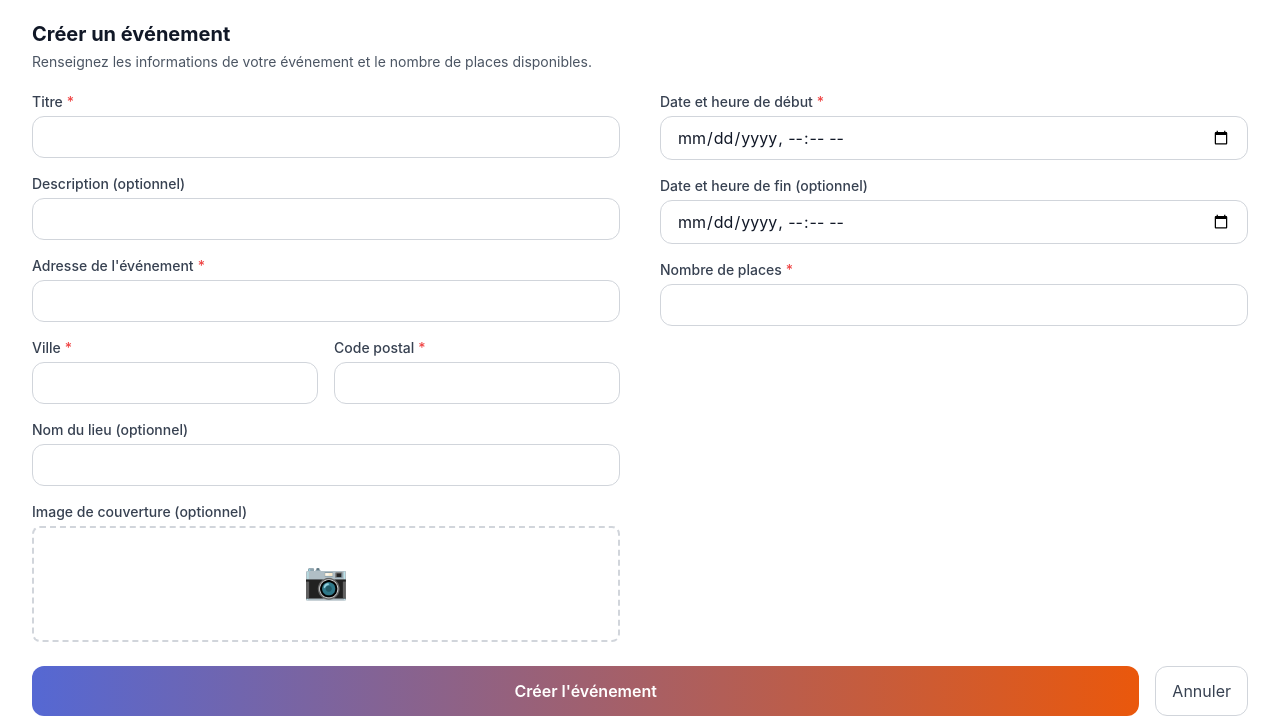
Test case: CreateEventPage - client-side validation › requires at least 1 place for a community event
The image size is (1280, 720).
Type "Concert de jazz" into the field labelled "Titre*" at (326, 137), box [32,116,620,158]
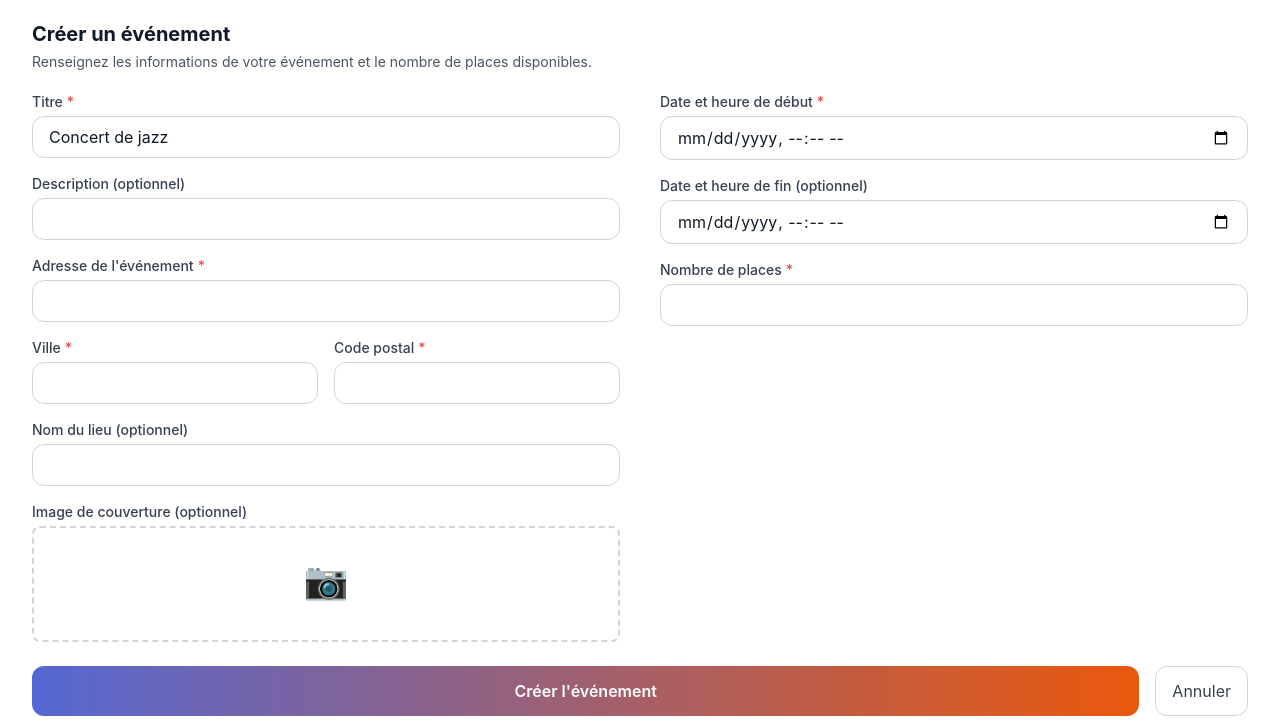
Type "10 Rue de Rivoli" into the field labelled "Adresse de l'événement*" at (326, 301), box [32,280,620,322]
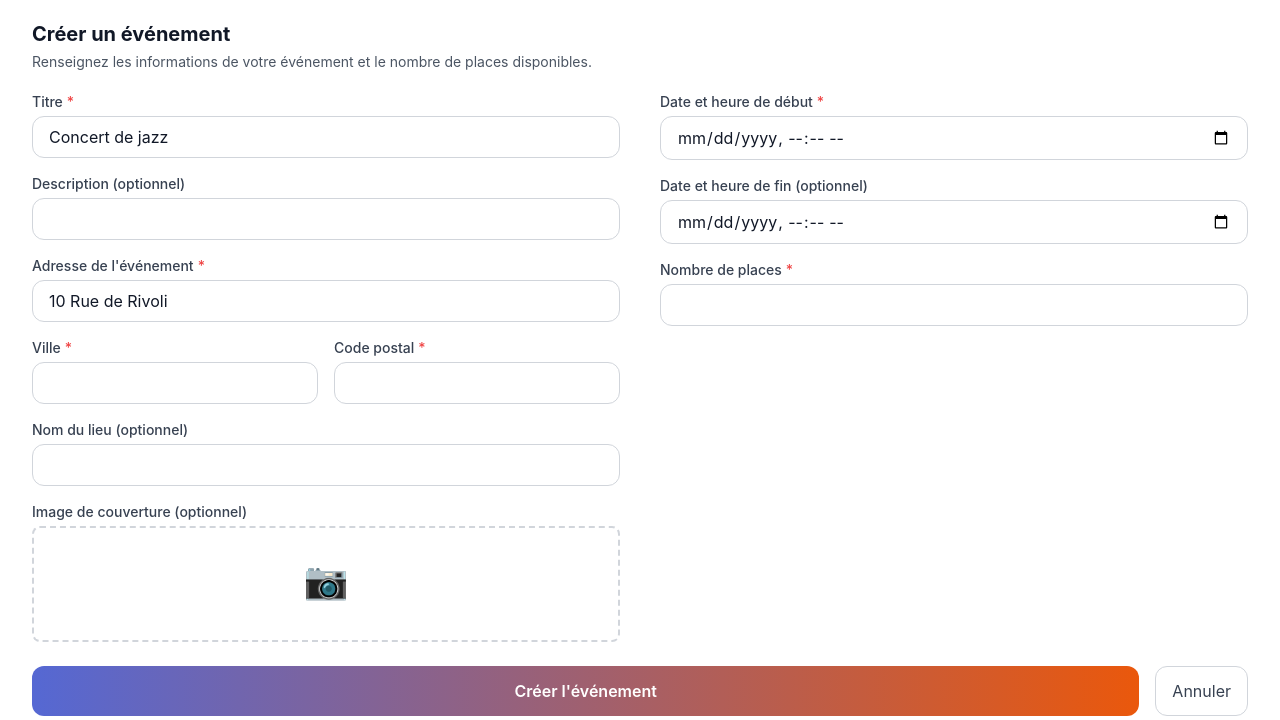
Type "Paris" into the field labelled "Ville*" at (175, 383), box [32,362,318,404]
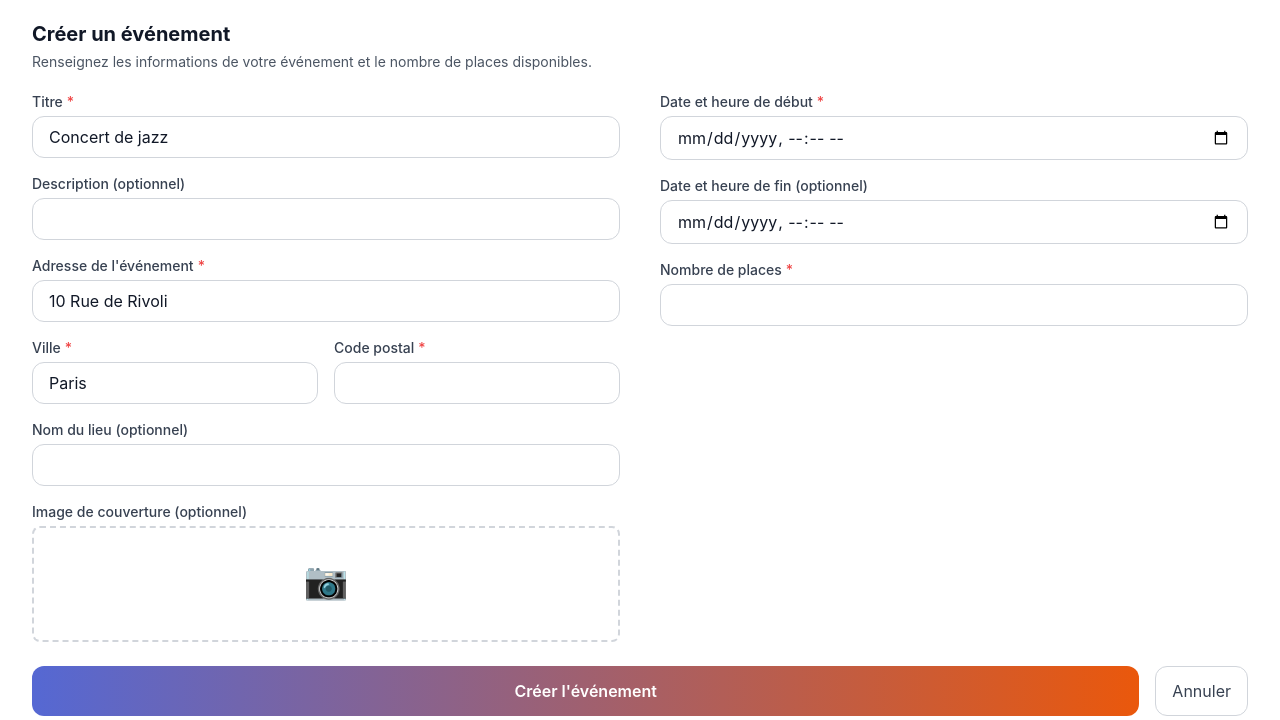
Type "75001" into the field labelled "Code postal*" at (477, 383), box [334,362,620,404]
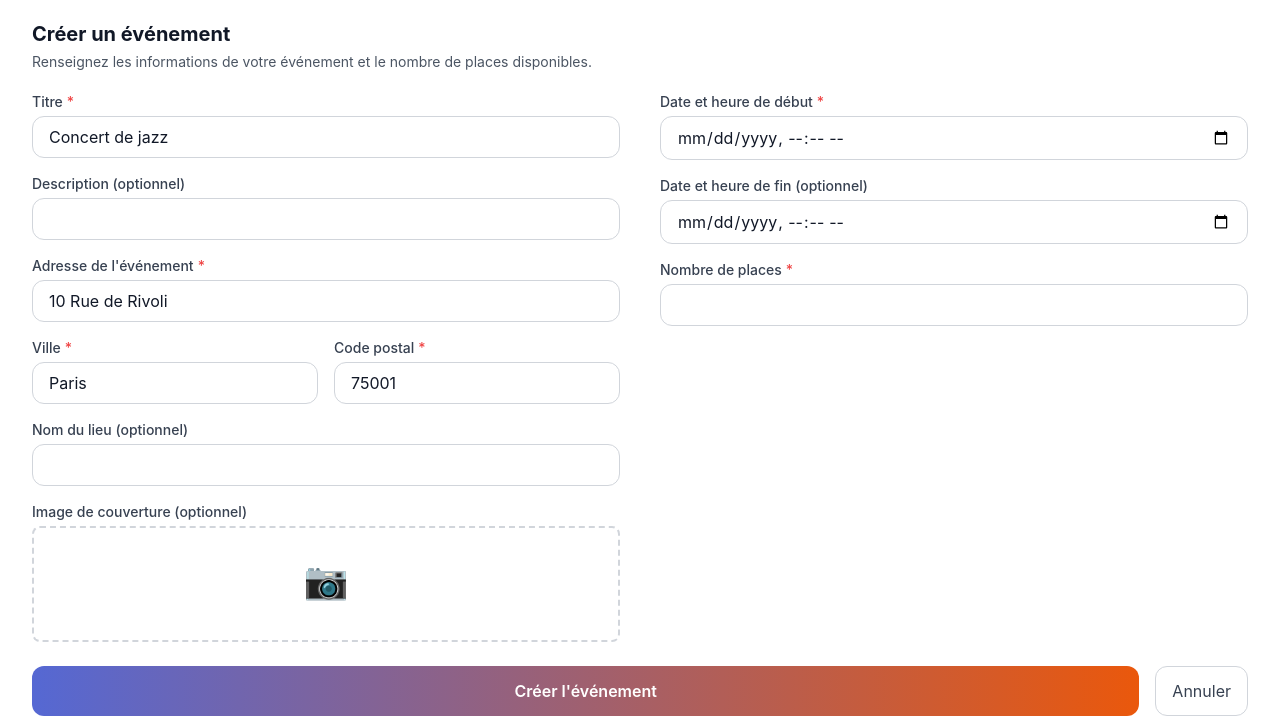
Type "2026-07-01T20:00" into the field labelled "Date et heure de début*" at (954, 138), box [660,116,1248,160]
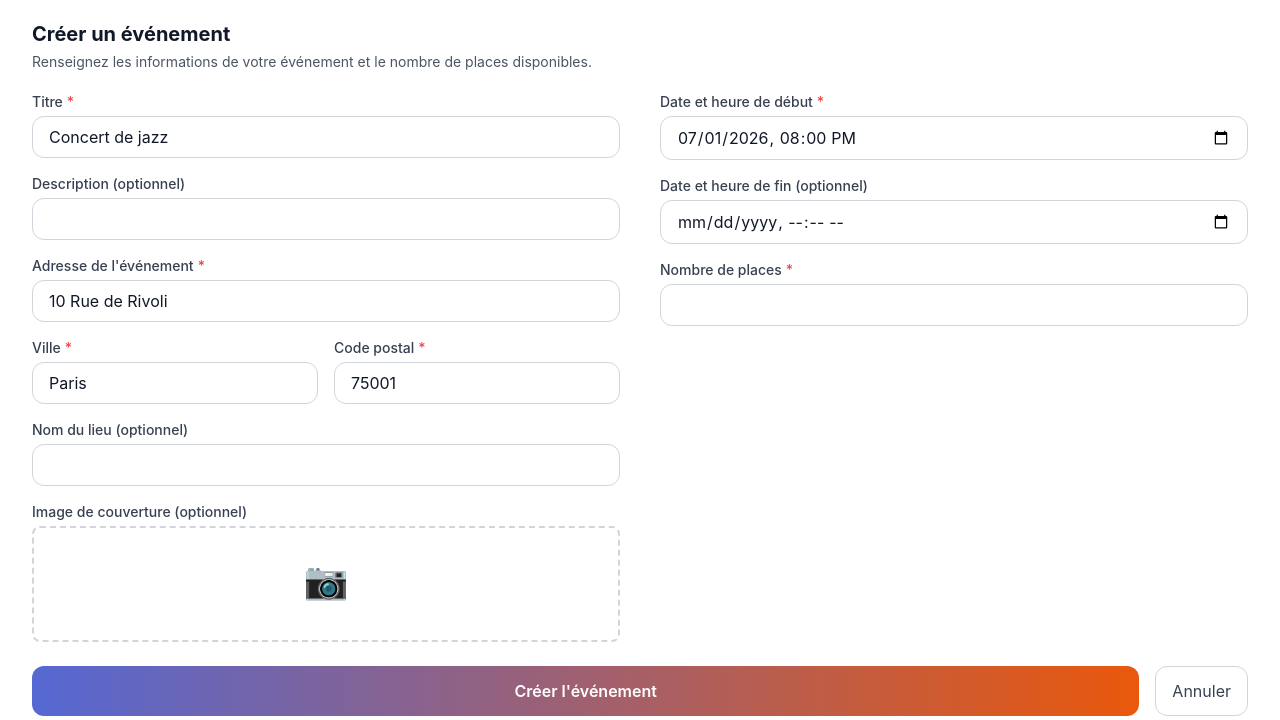
Click the button "Créer l'événement" at (586, 691), box [32,666,1139,716]
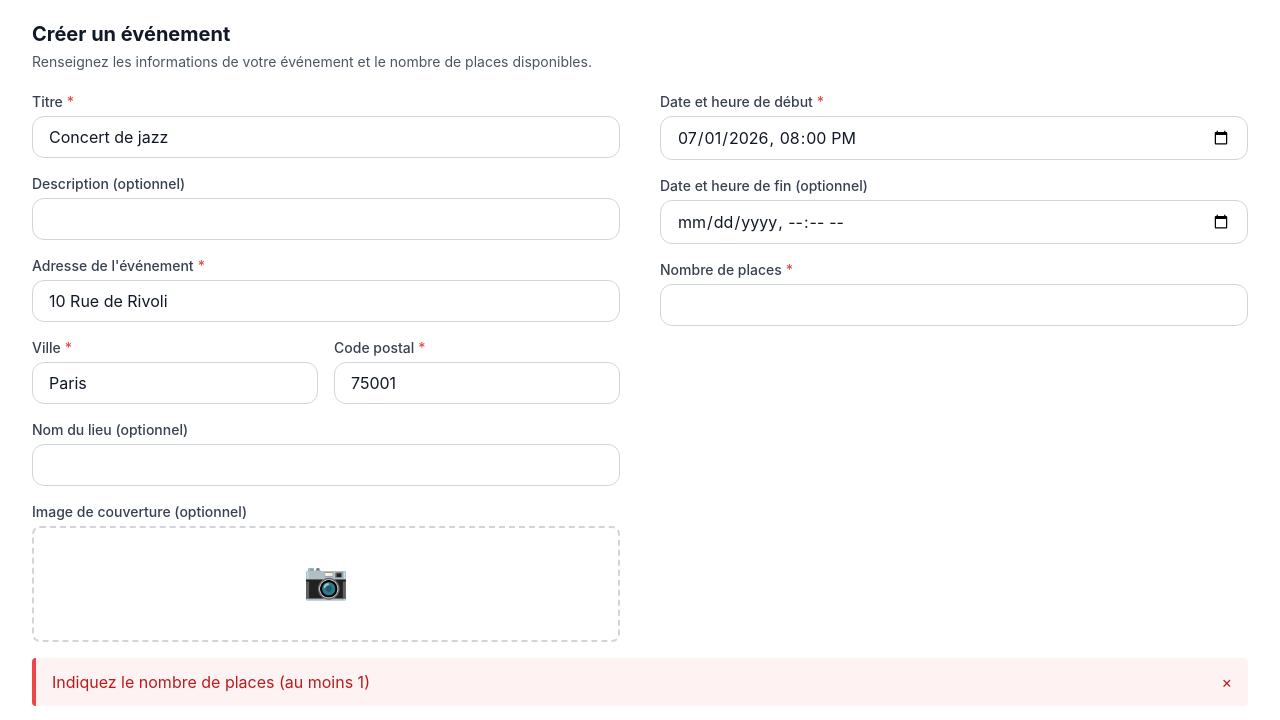
Check: the text "Indiquez le nombre de places (au moins 1)" is shown, box [52,670,370,694]
